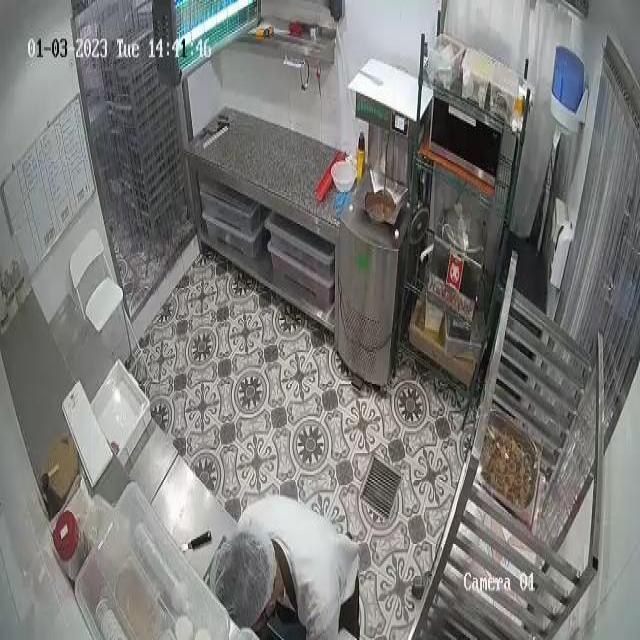hairnet: (212, 533, 270, 610)
